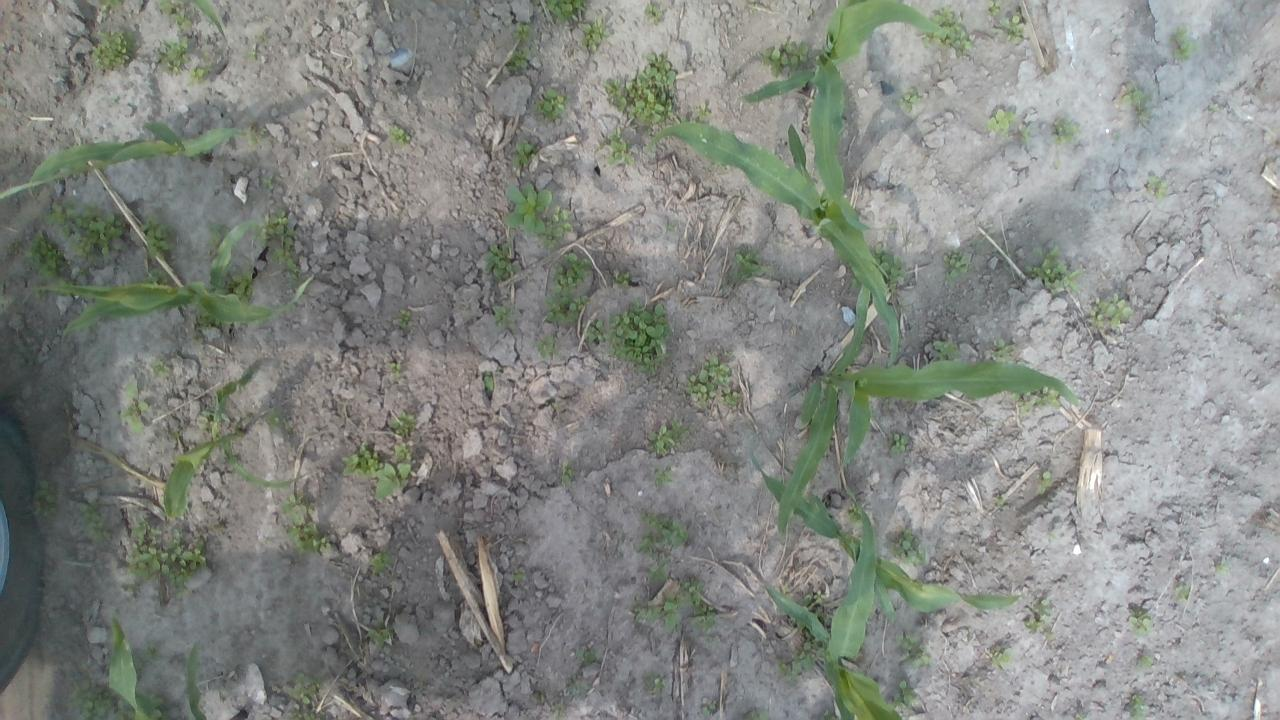Maize: (777, 286, 1079, 524), (646, 121, 898, 368), (745, 448, 1020, 624), (29, 222, 315, 328), (742, 0, 949, 103), (0, 118, 249, 198), (761, 585, 903, 720), (162, 391, 287, 518), (106, 613, 248, 720), (172, 0, 228, 41)
Weeds: (44, 198, 130, 263), (604, 51, 676, 127), (608, 300, 672, 377), (158, 526, 208, 596), (280, 493, 334, 555), (1022, 243, 1082, 297), (501, 180, 554, 235), (70, 674, 132, 720), (686, 356, 738, 410), (919, 6, 972, 56), (850, 244, 907, 288), (125, 516, 162, 582), (778, 628, 824, 678), (20, 231, 64, 278), (638, 510, 688, 550), (140, 212, 180, 262), (91, 27, 137, 70), (760, 37, 810, 76), (256, 207, 300, 250), (550, 252, 596, 292), (1088, 292, 1134, 330), (886, 526, 928, 567), (268, 244, 306, 289), (339, 440, 381, 480), (542, 292, 589, 327), (482, 240, 522, 280), (374, 460, 414, 500), (730, 248, 770, 288), (120, 382, 150, 434), (801, 588, 834, 634), (78, 498, 108, 548), (895, 631, 931, 670), (648, 418, 688, 453), (542, 201, 574, 244), (528, 84, 564, 122), (284, 670, 321, 706), (1168, 22, 1200, 62), (33, 479, 61, 524), (1118, 81, 1152, 118), (160, 35, 192, 74), (540, 0, 586, 27), (580, 13, 611, 52), (134, 687, 170, 720), (1022, 597, 1054, 634), (222, 269, 256, 303), (604, 126, 632, 167), (986, 106, 1018, 140), (366, 544, 401, 575), (991, 14, 1025, 44), (677, 575, 707, 609), (1050, 116, 1080, 147), (942, 251, 970, 284), (512, 138, 542, 168), (1032, 382, 1064, 410), (388, 408, 420, 436), (662, 589, 682, 633), (892, 677, 919, 709), (688, 604, 718, 632), (927, 339, 963, 362), (366, 622, 394, 650), (582, 316, 609, 345), (196, 310, 232, 331), (1128, 607, 1154, 636), (282, 703, 326, 720), (492, 303, 518, 330), (886, 431, 912, 458), (898, 87, 924, 114), (262, 406, 290, 431), (1128, 691, 1152, 720), (844, 502, 870, 528), (506, 47, 532, 72), (386, 124, 412, 148), (1011, 388, 1033, 416), (1147, 174, 1169, 202), (535, 334, 558, 360), (649, 558, 670, 586), (992, 336, 1016, 360), (990, 644, 1012, 670), (199, 406, 230, 424), (634, 603, 658, 626), (207, 222, 226, 250), (146, 268, 177, 284), (646, 671, 672, 690), (510, 20, 532, 42), (576, 646, 602, 664), (644, 2, 664, 24), (1038, 469, 1054, 496), (248, 128, 272, 146), (143, 640, 160, 664), (397, 306, 413, 331), (393, 443, 414, 461), (95, 0, 124, 13), (151, 357, 169, 377), (694, 102, 710, 124), (655, 468, 673, 487), (1137, 653, 1154, 673), (483, 369, 496, 395), (260, 173, 276, 194), (614, 270, 632, 288), (174, 10, 192, 28), (190, 66, 210, 82), (744, 708, 770, 720), (1174, 582, 1190, 601), (986, 0, 1002, 18), (1018, 126, 1032, 146), (561, 463, 574, 484), (513, 566, 526, 584), (1214, 562, 1232, 574), (388, 360, 401, 376), (818, 709, 835, 720), (157, 0, 174, 11), (248, 45, 259, 61), (790, 615, 802, 629), (701, 706, 714, 716)
